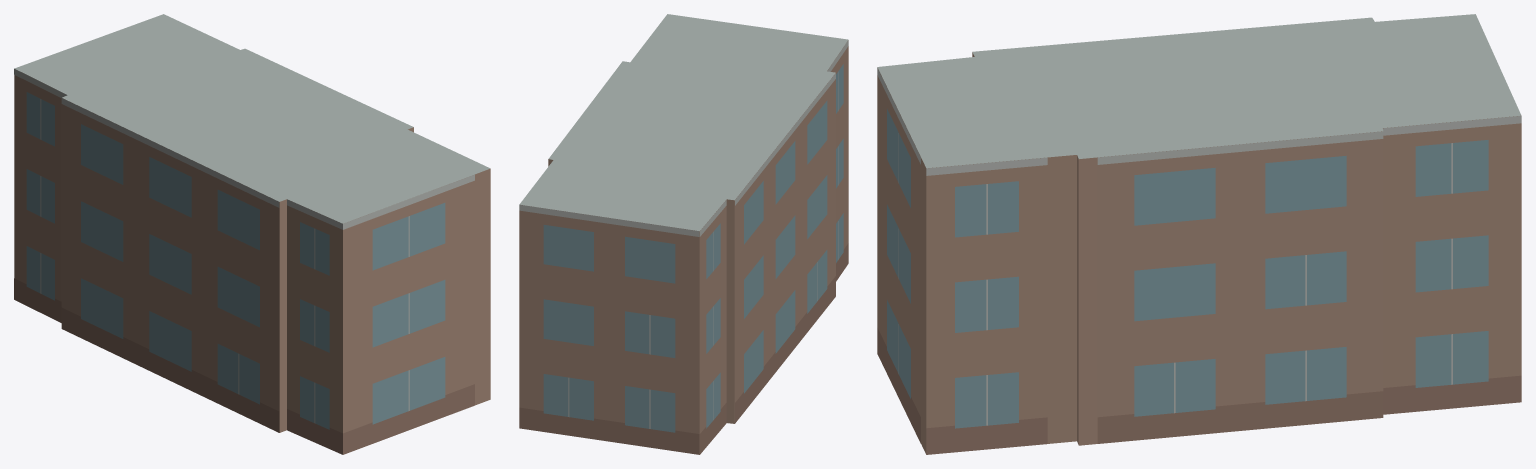
The model's file is survey-upis-32709182.glb.
3 renders of one model, left to right at view 1: azimuth 30°, elevation 25°; view 2: azimuth 150°, elevation 25°; view 3: azimuth 270°, elevation 25°, orthographic. The views are drawn at different scales.
Parts seen in each view (by area): view 1: survey-upis-32709182.tmp; view 2: survey-upis-32709182.tmp; view 3: survey-upis-32709182.tmp.
Part boxes in pixels (x1,y1,x2,y2): survey-upis-32709182.tmp: (14,14,490,454); survey-upis-32709182.tmp: (519,14,848,454); survey-upis-32709182.tmp: (877,14,1521,454).
Size of the model in its own units: 10.58 by 9.15 by 18.65.
